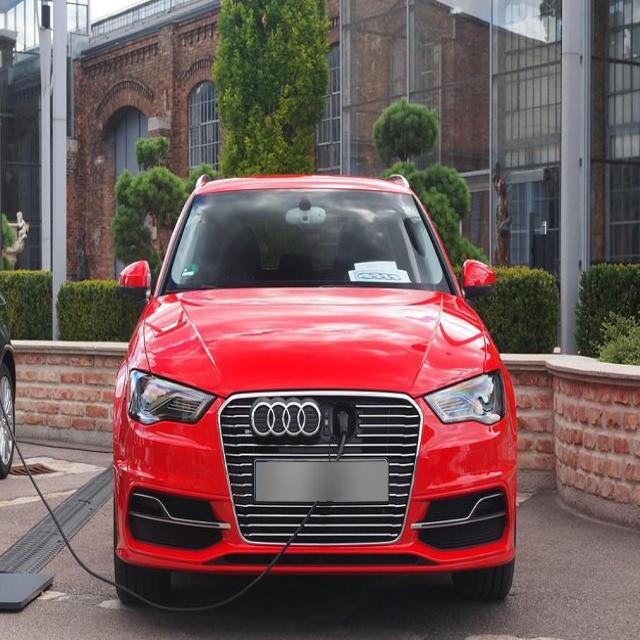front_bumper: (111, 415, 518, 569)
front_glass: (158, 182, 459, 297)
front_left_side_light: (420, 363, 508, 427)
front_left_side_mirror: (458, 256, 499, 306)
front_right_side_light: (123, 365, 217, 430)
front_right_side_mirror: (117, 258, 149, 308)
